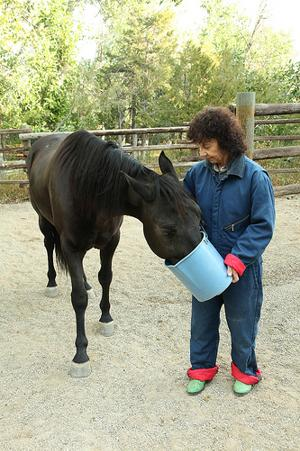person: (183, 109, 277, 395)
